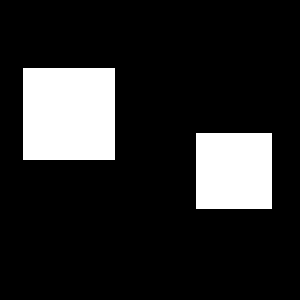circle: (23, 68, 115, 160), (196, 133, 272, 209)
